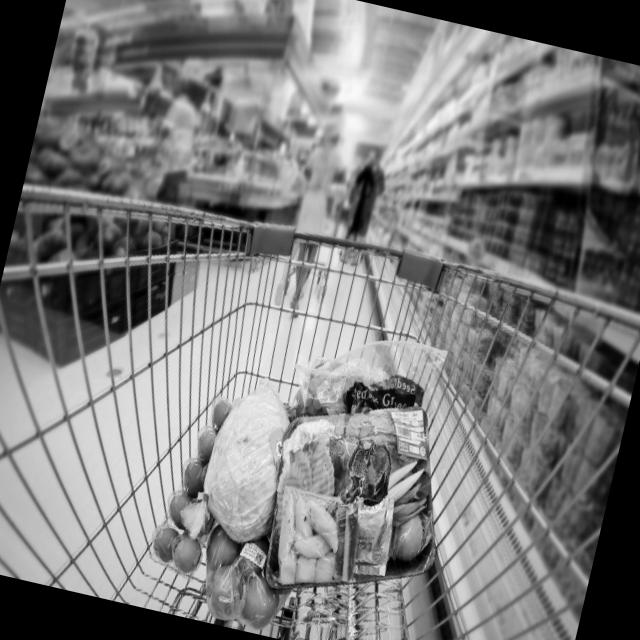bap cai: (193, 380, 307, 554)
nho: (338, 347, 442, 420)
tao: (188, 527, 290, 633)
trung: (140, 382, 244, 588)
